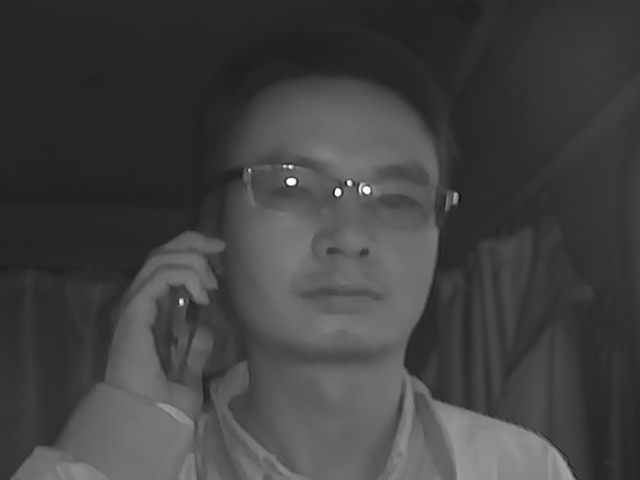hand: (103, 229, 230, 413)
